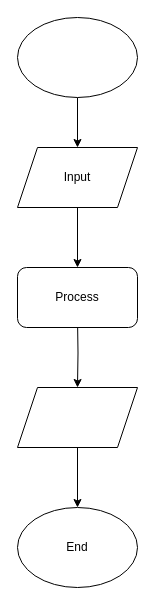
Image size: 155x605. Some labels were removed from this diagram. Here are the shapes that lost their labels. From the top down, the centre of each, then its label:
At point (77, 57): "Start".
At point (77, 417): "Output".
